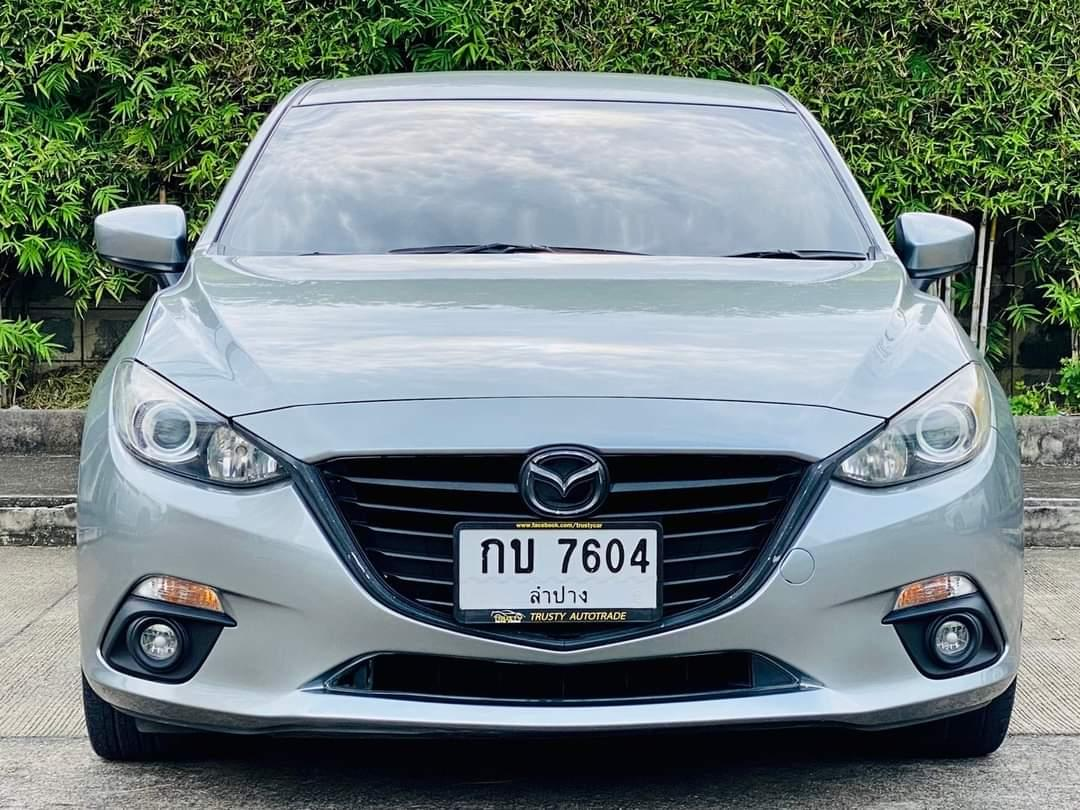license-plate: (453, 517, 662, 627)
